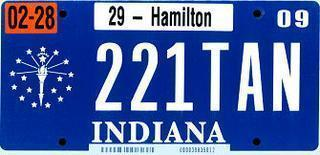placa de veiculo: (2, 1, 318, 145)
